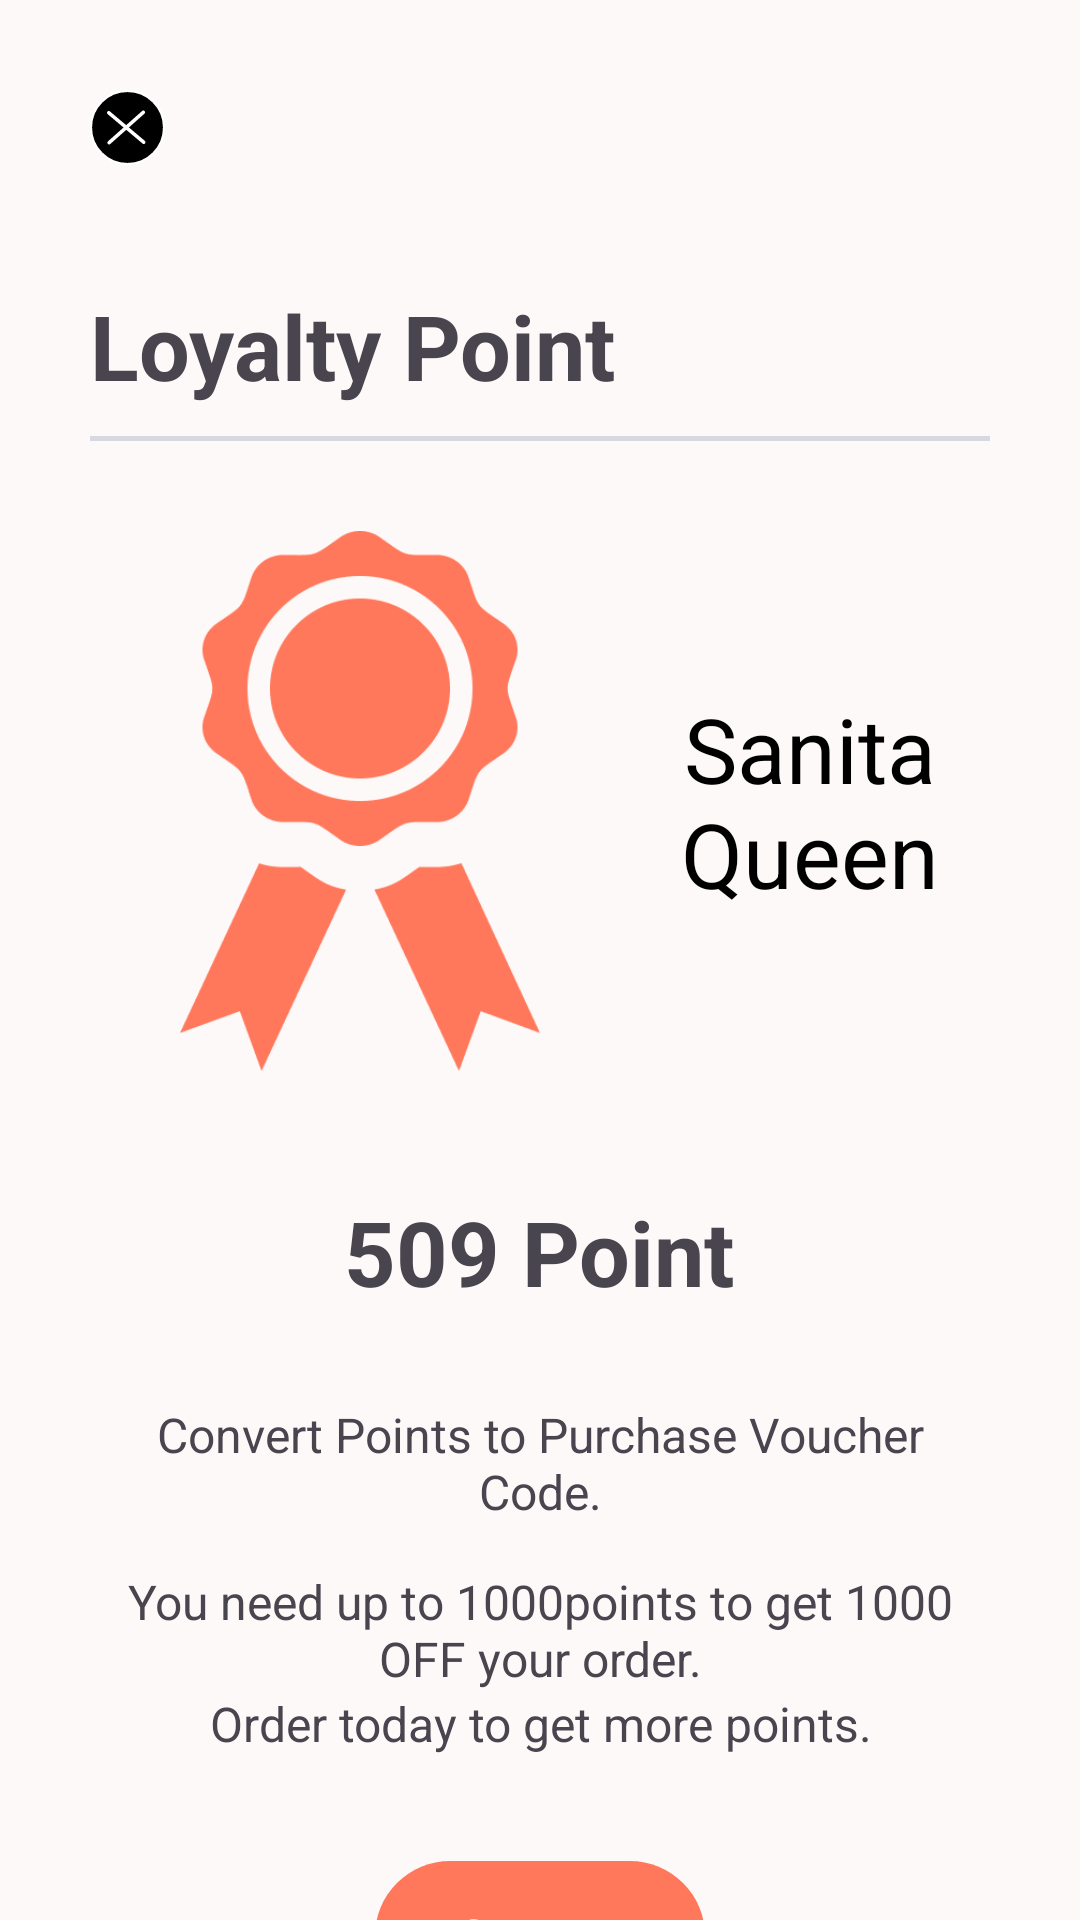

Where icons sit on this 1080×1920 app screen, as (x1, y1, x2, y2):
close: (92, 92, 163, 163)
